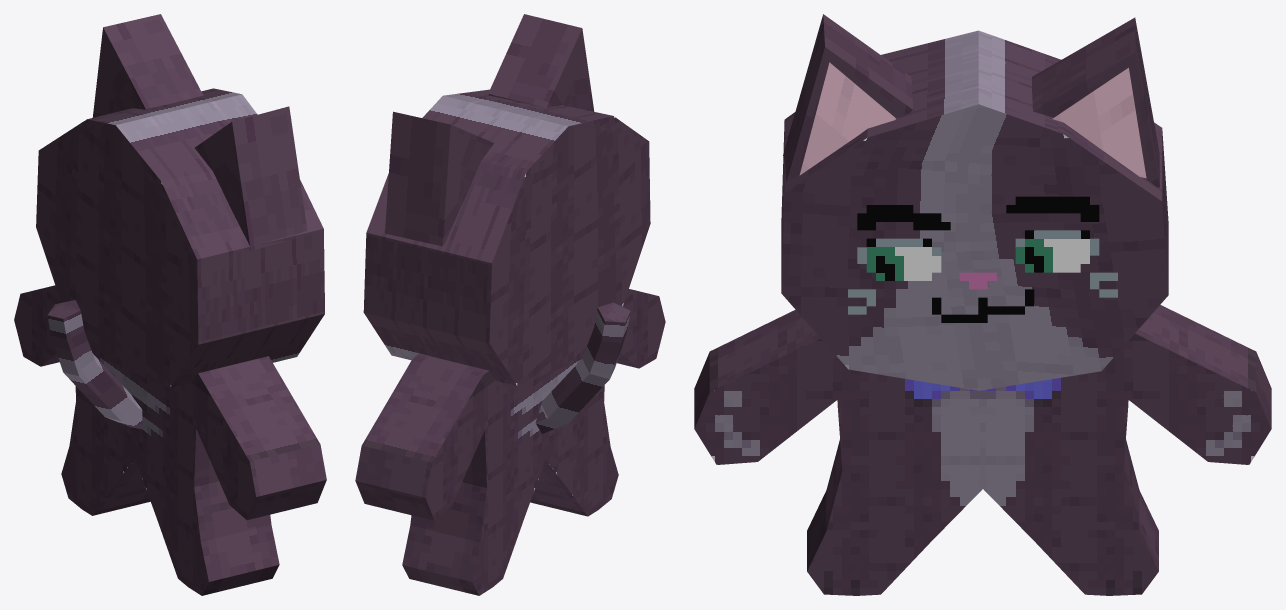
Rendered from mod_Pinata_Cat.fbx.
3 renders of one model, left to right at view 1: azimuth 30°, elevation 25°; view 2: azimuth 150°, elevation 25°; view 3: azimuth 270°, elevation 25°, orthographic. The views are drawn at different scales.
Parts seen in each view (by area): view 1: msh_pinata_cat_head, msh_pinata_cat_body, msh_pinata_cat_ear, msh_pinata_cat_ear.001, msh_pinata_cat_tail; view 2: msh_pinata_cat_head, msh_pinata_cat_body, msh_pinata_cat_ear.001, msh_pinata_cat_ear, msh_pinata_cat_tail; view 3: msh_pinata_cat_body, msh_pinata_cat_head, msh_pinata_cat_face, msh_pinata_cat_ear.001, msh_pinata_cat_ear, msh_pinata_cat_ear_inside.001, msh_pinata_cat_ear_inside.
Part boxes in pixels (bbox=[...]): msh_pinata_cat_head: bbox=[36, 88, 324, 387]; msh_pinata_cat_body: bbox=[14, 285, 326, 595]; msh_pinata_cat_ear: bbox=[195, 106, 307, 250]; msh_pinata_cat_ear.001: bbox=[92, 14, 203, 117]; msh_pinata_cat_tail: bbox=[47, 300, 142, 428]; msh_pinata_cat_head: bbox=[363, 89, 650, 385]; msh_pinata_cat_body: bbox=[355, 289, 665, 595]; msh_pinata_cat_ear.001: bbox=[385, 111, 493, 246]; msh_pinata_cat_ear: bbox=[488, 14, 594, 111]; msh_pinata_cat_tail: bbox=[535, 302, 630, 433]; msh_pinata_cat_body: bbox=[694, 305, 1271, 595]; msh_pinata_cat_head: bbox=[781, 30, 1168, 390]; msh_pinata_cat_face: bbox=[848, 196, 1117, 322]; msh_pinata_cat_ear.001: bbox=[1032, 17, 1159, 187]; msh_pinata_cat_ear: bbox=[783, 14, 912, 182]; msh_pinata_cat_ear_inside.001: bbox=[1052, 67, 1146, 178]; msh_pinata_cat_ear_inside: bbox=[799, 62, 896, 175].
Size of the model in its own units: 45.41 by 104 by 96.91.
3 materials, 3 textured.
